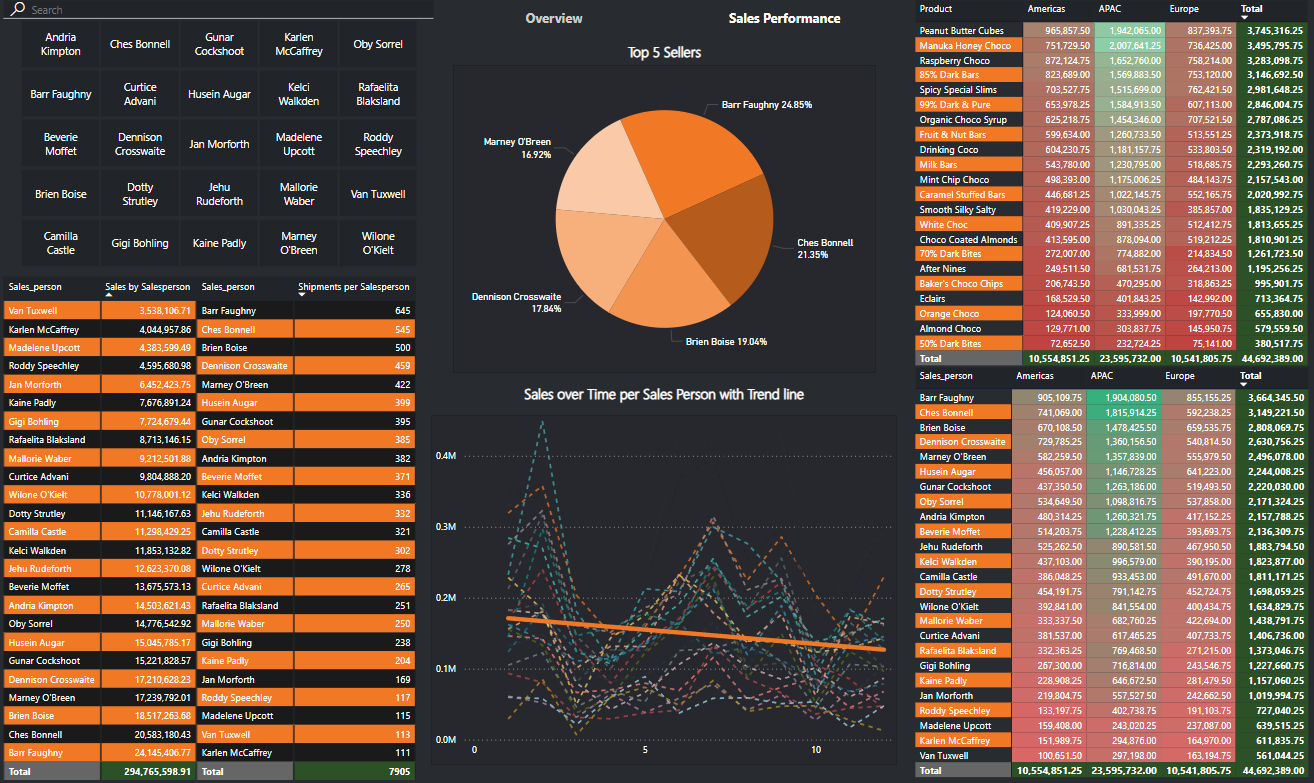

The dashboard page shown, as its layout file describes it:
{"tool":"powerbi","page":{"name":"Sales Performance","canvas":[1500,900],"ordinal":1},"visuals":[{"type":"slicer","fields":{"Values":["people.Sales_person"]},"box":[0,0,500.4,314.6],"z":0},{"type":"pivotTable","fields":{"Rows":["products.Product"],"Columns":["locations.Region"],"Values":["Sum(shipments.Amount)"]},"box":[1039.5,0,460.5,437.7],"z":1000},{"type":"pivotTable","fields":{"Rows":["people.Sales_person"],"Values":["calendar.Sales by Salesperson"]},"box":[0,314.6,231.4,585.9],"z":2000},{"type":"pivotTable","fields":{"Rows":["people.Sales_person"],"Values":["calendar.Shipments per Salesperson"]},"box":[220,314.6,262.2,585.9],"z":3000},{"type":"shape","box":[517.5,78.6,482.1,351.1],"z":3500},{"type":"pieChart","fields":{"Category":["people.Sales_person"],"Y":["Sum(shipments.Amount)"]},"box":[517.5,78.6,482.1,351.1],"z":4000},{"type":"pivotTable","fields":{"Rows":["people.Sales_person"],"Columns":["locations.Region"],"Values":["Sum(shipments.Amount)"]},"box":[1039.5,418.3,460,482.1],"z":5000},{"type":"textbox","box":[479.9,47.9,557.4,30.8],"z":6000},{"type":"shape","box":[493,477.1,531.3,399.1],"z":6500},{"type":"lineChart","fields":{"Y":["Sum(shipments.Amount)"],"Series":["people.Sales_person"],"Category":["calendar.Month_num"]},"box":[493,469.2,531.3,407],"z":7000},{"type":"textbox","box":[493,437.4,531.3,39.6],"z":8000},{"type":"pageNavigator","box":[506.1,0,517.5,50.2],"z":8001}]}

Visuals, with their boxes in screenshot pixels (x1, y1, x2, y2), scaled from the page's 1500x900 canvas onto the 1314x783 screenshot:
slicer - people.Sales_person: l=0, t=0, r=438, b=274
pivotTable - products.Product x locations.Region: l=911, t=0, r=1313, b=381
pivotTable - people.Sales_person x calendar.Sales by Salesperson: l=0, t=274, r=203, b=782
pivotTable - people.Sales_person x calendar.Shipments per Salesperson: l=193, t=274, r=422, b=782
shape: l=453, t=68, r=876, b=374
pieChart - people.Sales_person x Sum(shipments.Amount): l=453, t=68, r=876, b=374
pivotTable - people.Sales_person x locations.Region: l=911, t=364, r=1313, b=782
textbox: l=420, t=42, r=909, b=68
shape: l=432, t=415, r=897, b=762
lineChart - Sum(shipments.Amount) x people.Sales_person: l=432, t=408, r=897, b=762
textbox: l=432, t=381, r=897, b=415
pageNavigator: l=443, t=0, r=897, b=44
